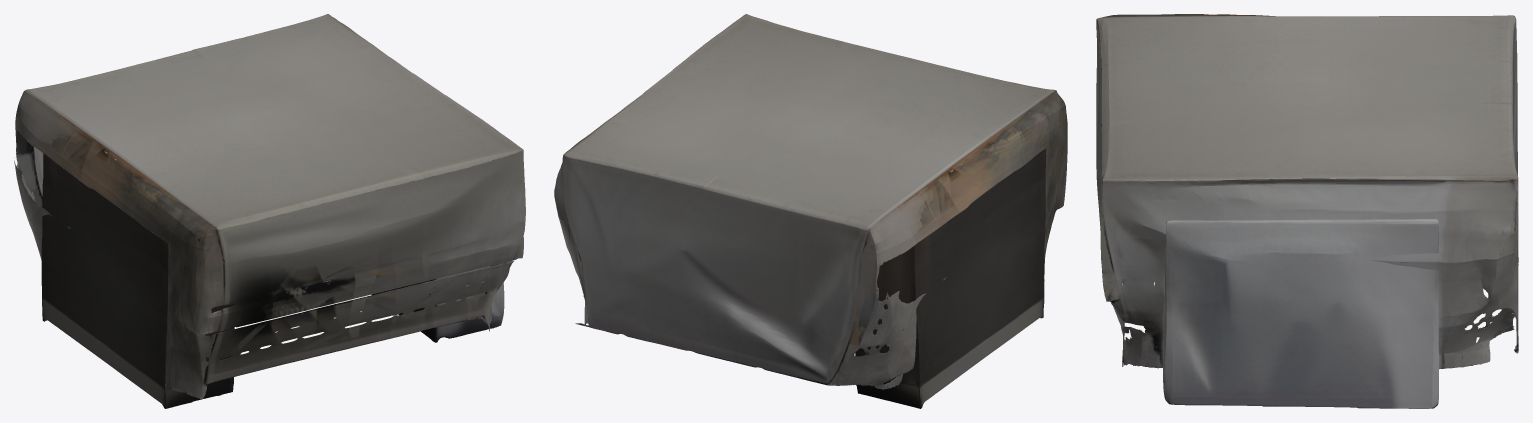
File: prediction.glb
3 renders of one model, left to right at view 1: azimuth 30°, elevation 25°; view 2: azimuth 150°, elevation 25°; view 3: azimuth 270°, elevation 25°, orthographic. The views are drawn at different scales.
Visible parts, largest first — view 1: 0_geometry_0, 1_geometry_0; view 2: 0_geometry_0, 1_geometry_0; view 3: 0_geometry_0, 1_geometry_0.
Part boxes in pixels (bbox=[...]): 0_geometry_0: bbox=[14, 14, 525, 398]; 1_geometry_0: bbox=[41, 151, 504, 408]; 0_geometry_0: bbox=[554, 14, 1067, 389]; 1_geometry_0: bbox=[584, 148, 1045, 408]; 0_geometry_0: bbox=[1096, 14, 1518, 369]; 1_geometry_0: bbox=[1163, 219, 1438, 408].
Size of the model in its own units: 1 by 0.5739 by 0.9827.
Materials: 2 (2 with a texture image).
